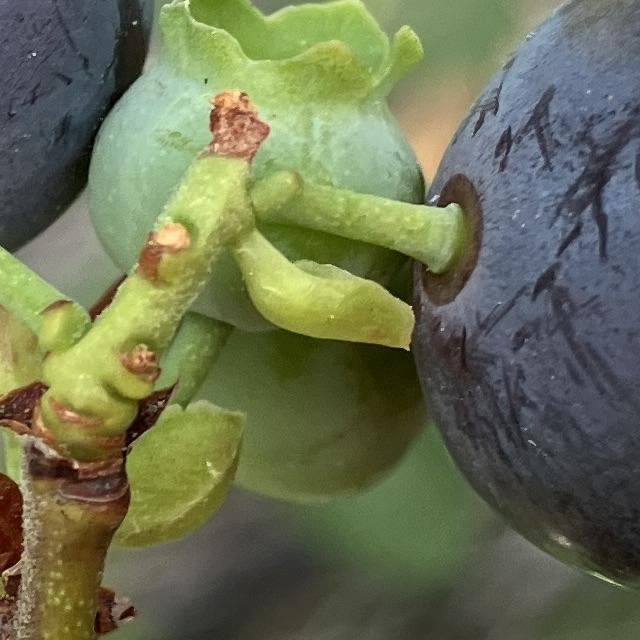Blueberries: (403, 0, 640, 601)
